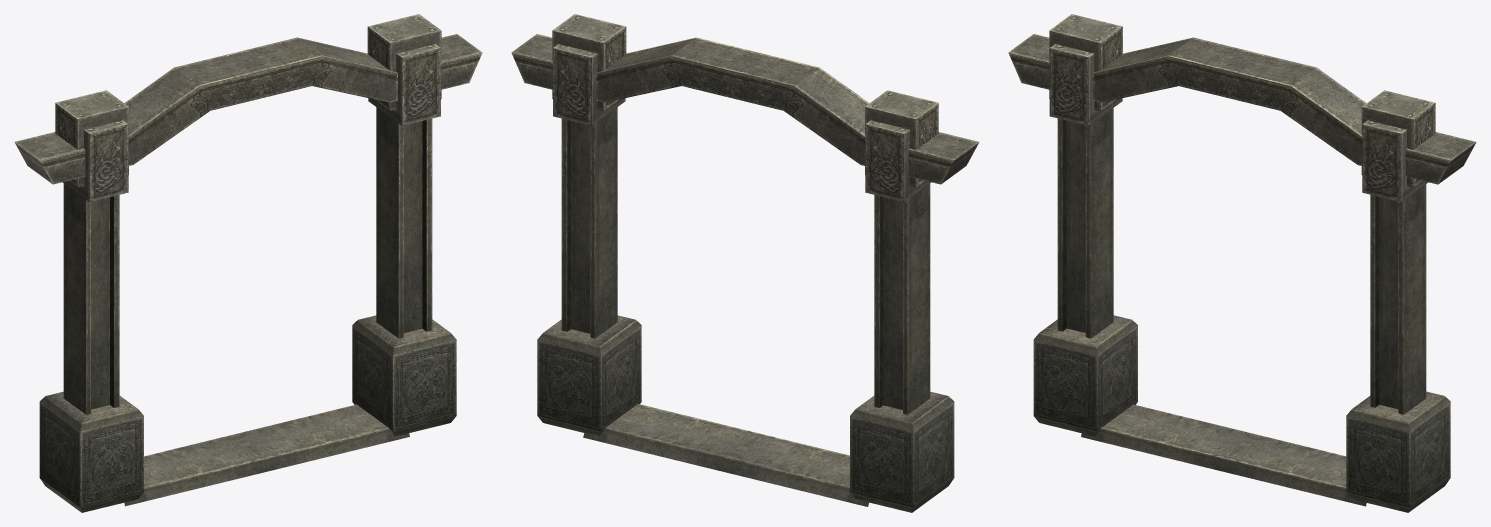
The model's file is dawnmist_gate_s.fbx.
3 renders of one model, left to right at view 1: azimuth 30°, elevation 25°; view 2: azimuth 150°, elevation 25°; view 3: azimuth 330°, elevation 25°, orthographic.
Visible parts, largest first — view 1: Object01; view 2: Object01; view 3: Object01.
Part boxes in pixels (x1,y1,x2,y2): Object01: (14, 14, 482, 512); Object01: (511, 14, 979, 512); Object01: (1008, 14, 1476, 512).
Bounding box in the file's own units: 16.94 × 14.47 × 2.7.
